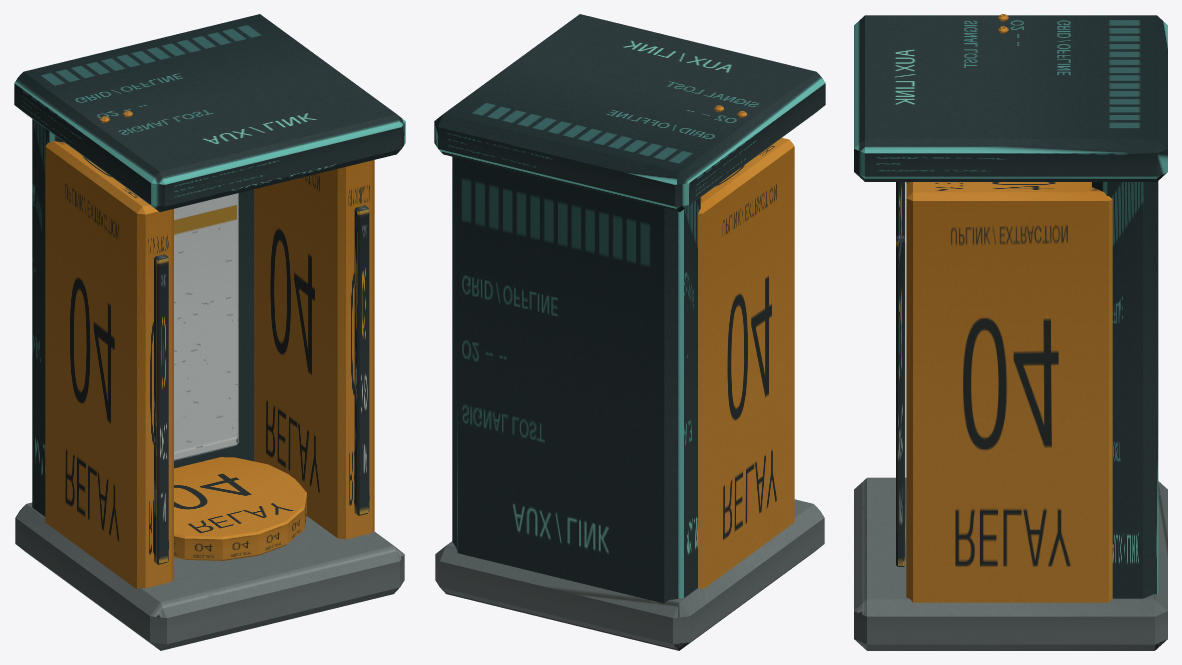
The model's file is purification_pod_LOD0.obj.
3 views of the same model, side by side, from view 1: azimuth 30°, elevation 25°; view 2: azimuth 150°, elevation 25°; view 3: azimuth 270°, elevation 25° (orthographic). The views are drawn at different scales.
Visible parts, largest first — view 1: L02_purification_pod_LOD0; view 2: L02_purification_pod_LOD0; view 3: L02_purification_pod_LOD0.
Boxes of the visible parts, bbox=[...] form: L02_purification_pod_LOD0: bbox=[14, 14, 405, 650]; L02_purification_pod_LOD0: bbox=[434, 14, 825, 650]; L02_purification_pod_LOD0: bbox=[854, 14, 1167, 650].
Bounding box in the file's own units: 1.65 × 3.01 × 1.65.
1 material, 1 textured.
